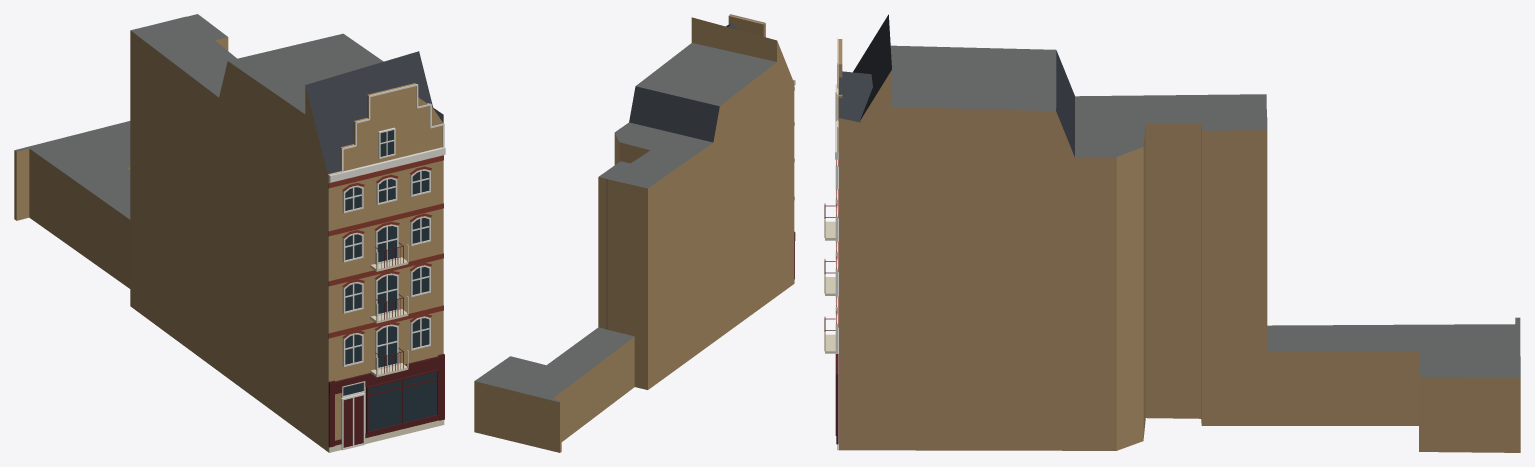
File: recipe-bilder-156286.glb
The picture shows the model from 3 angles, left to right: view 1: azimuth 30°, elevation 25°; view 2: azimuth 150°, elevation 25°; view 3: azimuth 270°, elevation 25°; orthographic projection. The views are drawn at different scales.
Visible parts, largest first — view 1: bilder-156286; view 2: bilder-156286; view 3: bilder-156286.
Boxes of the visible parts, x1,y1,x2,y2 form: bilder-156286: (14, 14, 445, 452); bilder-156286: (474, 14, 795, 452); bilder-156286: (824, 14, 1520, 452).
Bounding box in the file's own units: 6.62 × 18.67 × 30.93.
